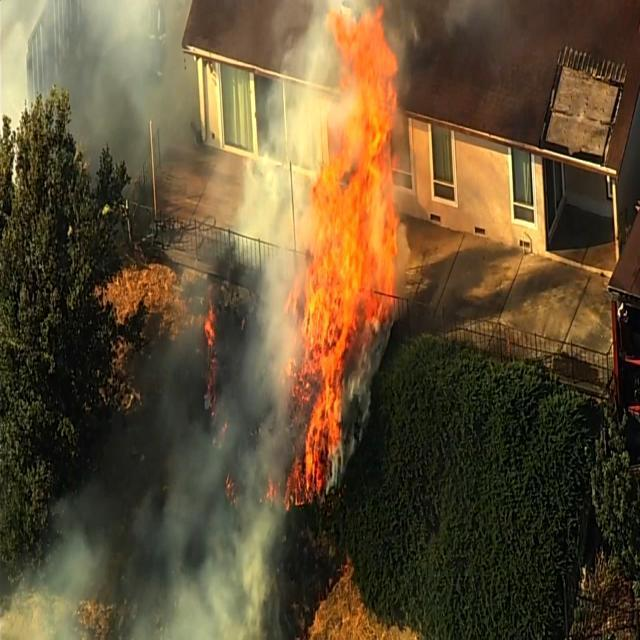Fire: (258, 0, 408, 486)
Smoke: (36, 337, 322, 638), (0, 0, 214, 208)
